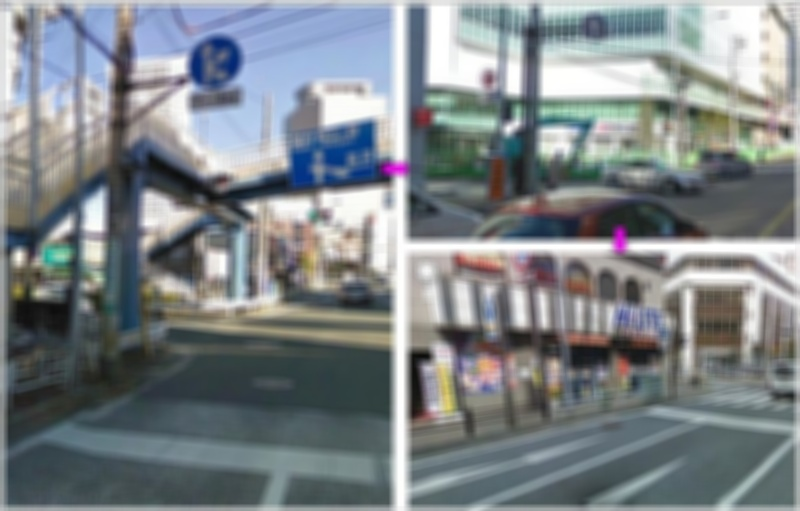Direction_sign: (181, 29, 254, 101), (579, 15, 612, 50)
